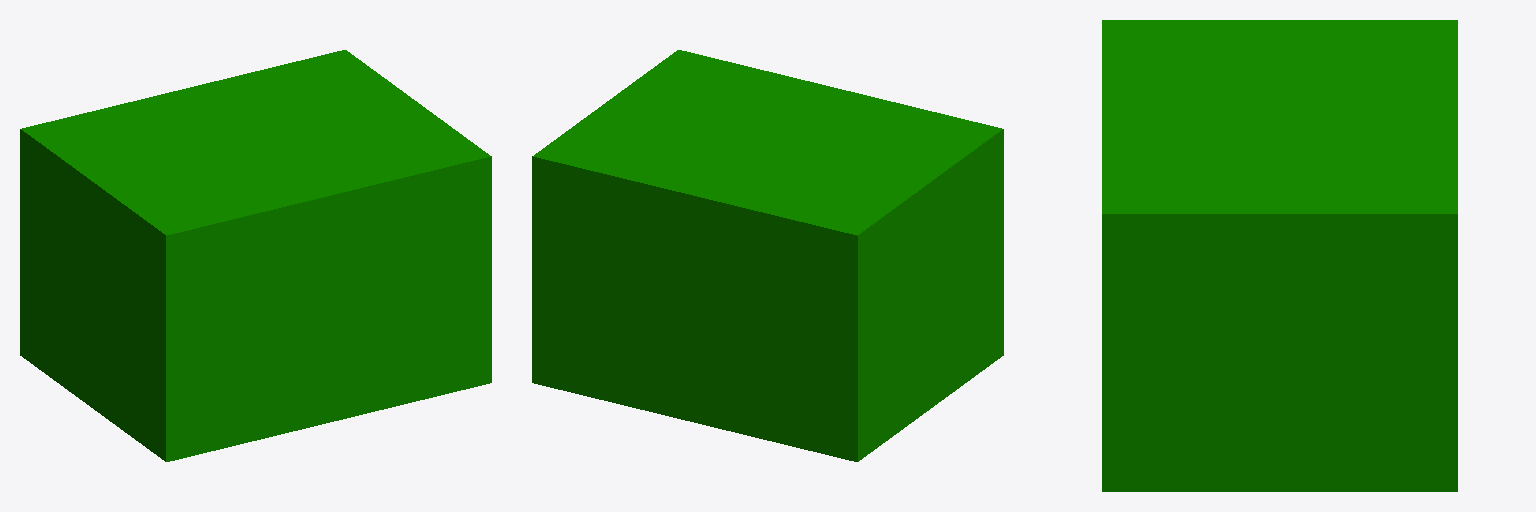
URDF robot description (random_box):
<?xml version='1.0' encoding='UTF-8'?>
<robot name="random_box">
  <link name="box">

    <inertial>
      <mass value="0.3"/>
      <origin xyz="0 0 0" rpy="0 0 0"/>
      <inertia ixx="0.1" ixy="0.1" ixz="0.1" iyy="0.1" iyz="0.1" izz="0.1"/>
    </inertial>

    <visual>
      <geometry>
        <box size="0.9 0.7 0.6"/>
      </geometry>
      <material name="color">
        <color rgba="0.1 0.6 0 1"/>
      </material>
    </visual>
    <collision>
      <geometry>
        <box size="0.9 0.7 0.6"/>
      </geometry>

      <surface>
        <friction>
          <ode>
            <mu>100000000.0</mu>
            <mu2>100000000.0</mu2>
          </ode>
        </friction>
        <contact>
          <ode>
            <min_depth>0.003</min_depth>
          </ode>
        </contact>
      </surface>

    </collision>

  </link>
</robot>

--- Render facts (derived) ---
Views: 3 orthographic renders of the robot side by side, from view 1: azimuth 30°, elevation 25°; view 2: azimuth 150°, elevation 25°; view 3: azimuth 270°, elevation 25°.
Model random_box with 1 links and 0 joints (none), rooted at box, posed all joints at 0.
Visible links, largest first — view 1: box; view 2: box; view 3: box.
Link boxes in pixels (x1,y1,x2,y2): box: (20, 50, 491, 461); box: (532, 50, 1003, 461); box: (1102, 20, 1457, 491).
Bounding box of the posed robot: 0.9 × 0.7 × 0.6 m (x, y, z).
Geometry: primitives only (box / cylinder / sphere), no mesh files.